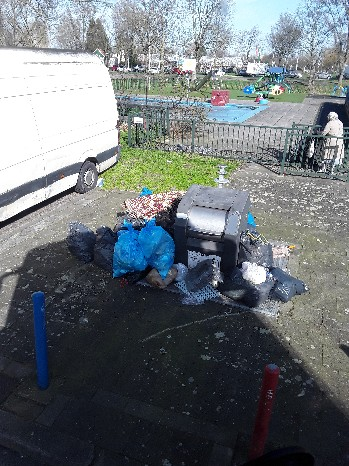Container: (168, 177, 248, 242)
Rest: (166, 254, 230, 300), (109, 224, 140, 288), (140, 229, 178, 278), (220, 225, 263, 267), (84, 218, 117, 267), (148, 195, 184, 231), (57, 225, 88, 265), (243, 261, 271, 305), (265, 264, 304, 292), (271, 264, 285, 308)
Voertuig: (10, 36, 135, 195)
